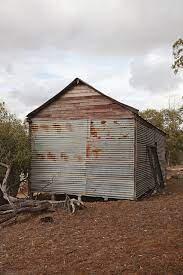Tin-shade House: (12, 80, 168, 200)
